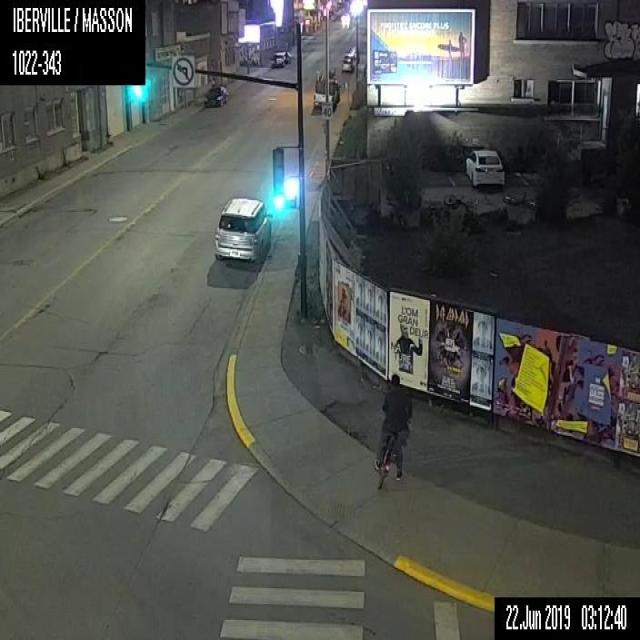cyclist: (372, 372, 411, 491)
vehicle: (213, 195, 271, 264), (464, 148, 504, 190), (312, 68, 340, 109), (203, 83, 228, 108), (269, 50, 286, 68), (340, 56, 353, 72), (281, 51, 291, 64), (340, 12, 350, 21)
